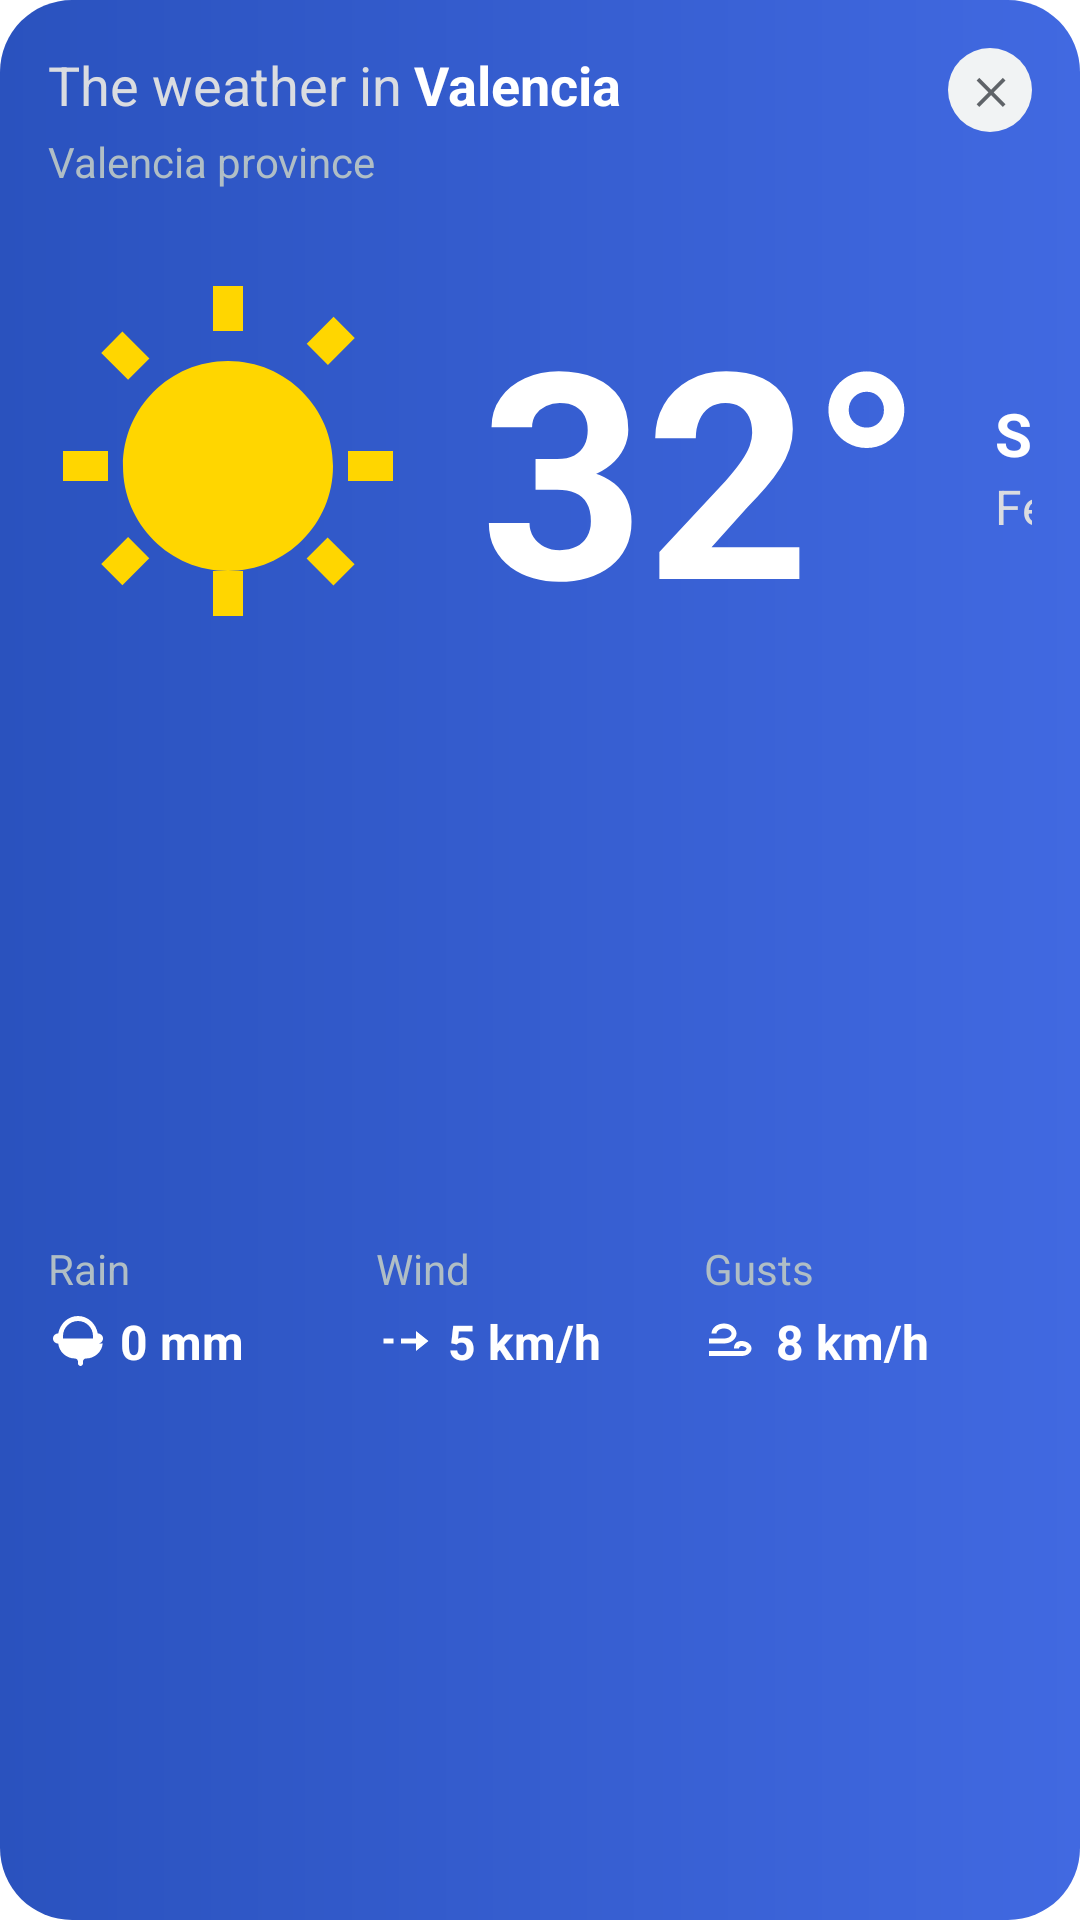

Locate icon controls on the screen. Image size 1080×1920, boxes as detection(x1, y1, x2, y2).
brightness: detection(63, 286, 393, 616)
